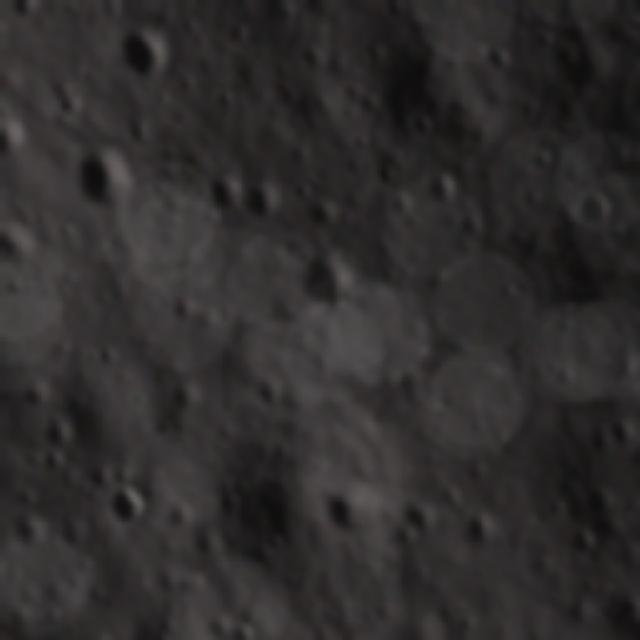crater: (295, 238, 367, 320), (69, 139, 143, 215), (111, 29, 182, 97), (322, 473, 383, 541), (98, 475, 162, 536), (417, 162, 466, 212), (6, 504, 52, 556), (238, 174, 280, 228), (202, 168, 243, 218), (462, 511, 506, 557), (573, 186, 615, 232), (397, 496, 437, 544), (246, 370, 286, 418), (298, 191, 338, 234), (576, 483, 616, 526), (476, 38, 519, 78), (404, 105, 442, 149), (559, 520, 599, 558), (368, 155, 406, 191), (602, 408, 633, 452), (210, 78, 244, 113), (51, 86, 84, 119), (40, 445, 68, 478)
